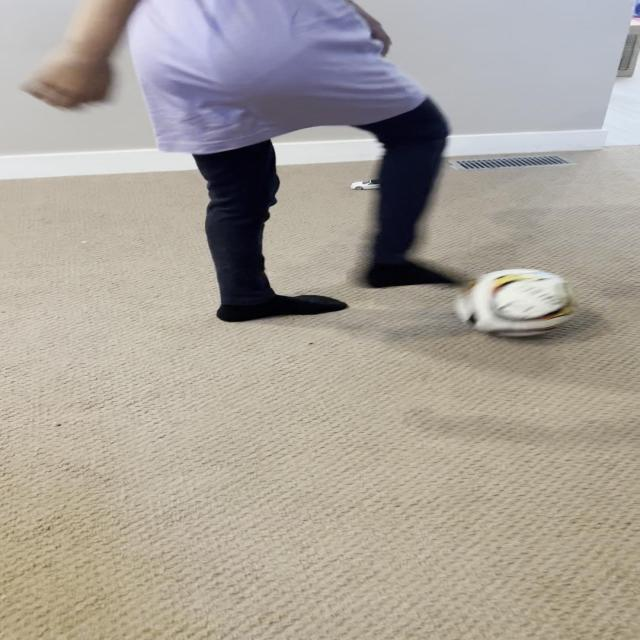Soccer Ball: (453, 270, 579, 336)
